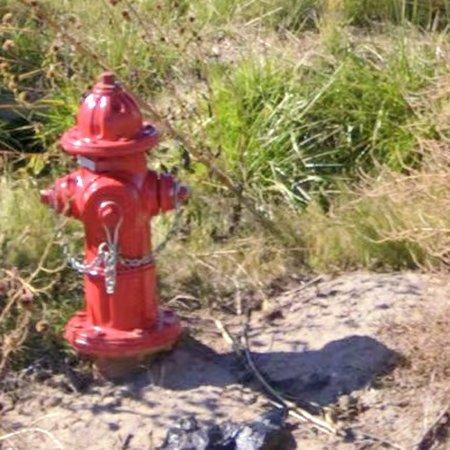a fire hydrant: (40, 72, 188, 360)
